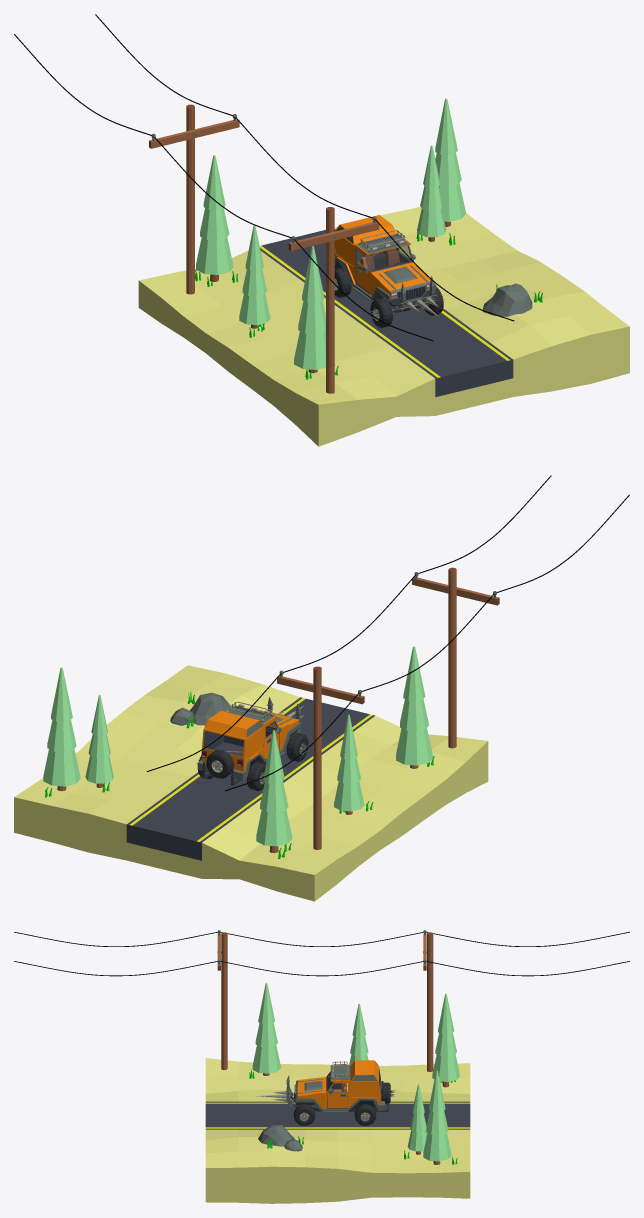
The model's file is Low Poly Zombie Car By EdwinRCED.obj.
The picture shows the model from 3 angles, top to bottom: view 1: azimuth 30°, elevation 25°; view 2: azimuth 150°, elevation 25°; view 3: azimuth 270°, elevation 25°; orthographic projection. The views are drawn at different scales.
Visible parts, largest first — view 1: Plane.000_Plane.027, Cylinder.018_Cylinder.007; view 2: Plane.000_Plane.027, Cylinder.018_Cylinder.007; view 3: Plane.000_Plane.027, Cylinder.018_Cylinder.007.
Part boxes in pixels (x1,y1,x2,y2): Plane.000_Plane.027: (14, 14, 629, 446); Cylinder.018_Cylinder.007: (334, 215, 444, 328); Plane.000_Plane.027: (14, 475, 629, 901); Cylinder.018_Cylinder.007: (197, 697, 309, 791); Plane.000_Plane.027: (14, 930, 629, 1203); Cylinder.018_Cylinder.007: (256, 1060, 395, 1125).
Bounding box in the file's own units: 57.16 × 37.95 × 125.
4 materials, 4 textured.
